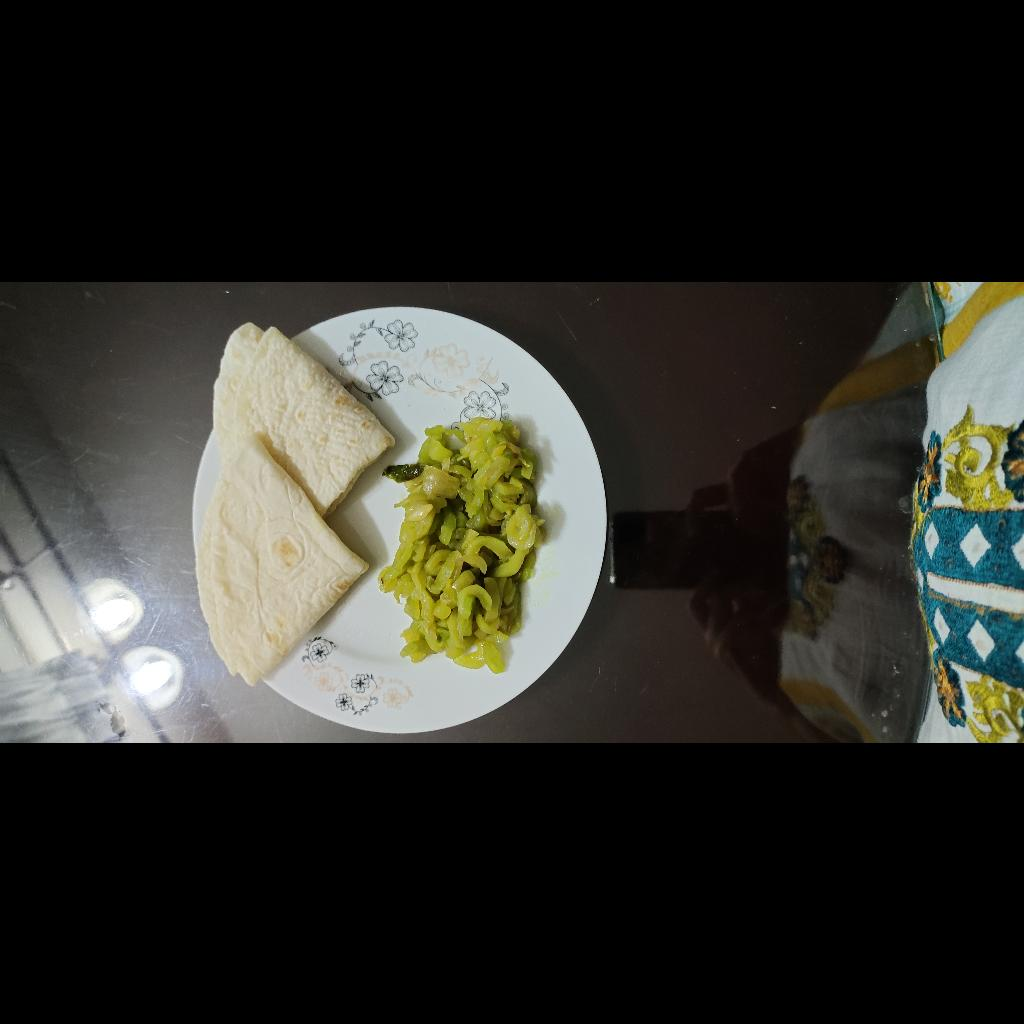chichinga-vaji: (68, 652, 324, 823)
ruti: (54, 478, 423, 677)
